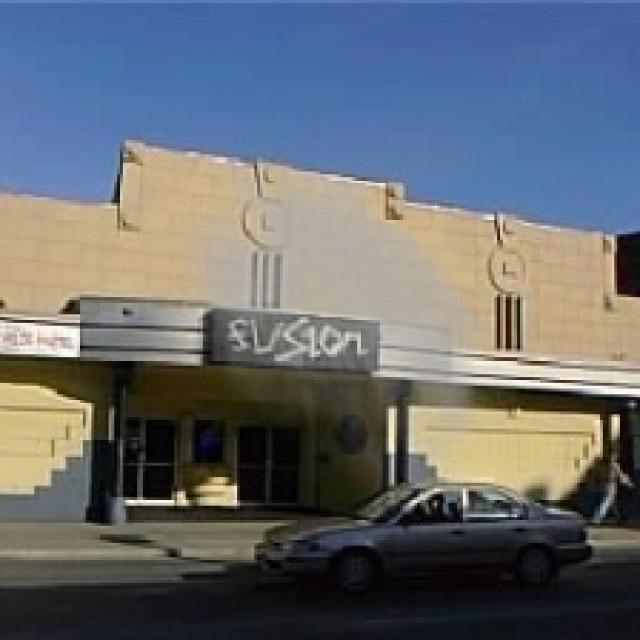smoke: (160, 146, 529, 517)
